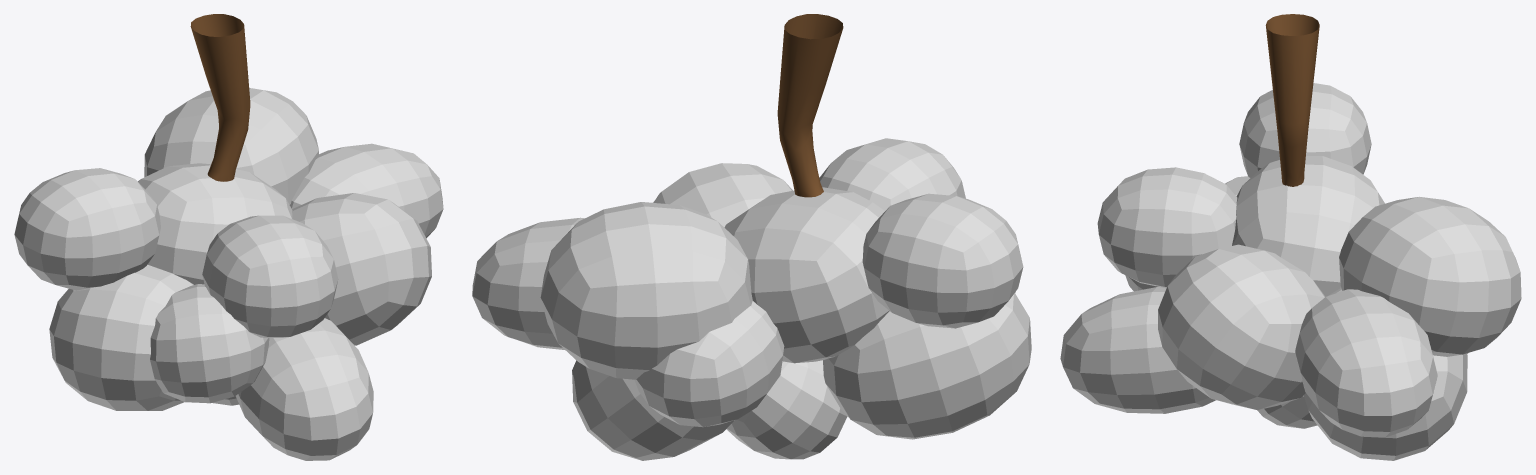
Rendered from partitree.fbx.
3 renders of one model, left to right at view 1: azimuth 30°, elevation 25°; view 2: azimuth 150°, elevation 25°; view 3: azimuth 270°, elevation 25°, orthographic. The views are drawn at different scales.
Parts seen in each view (by area): view 1: TreeFluffBooleaned.001, RegularTree.003; view 2: TreeFluffBooleaned.001, RegularTree.003; view 3: TreeFluffBooleaned.001, RegularTree.003.
Boxes of the visible parts, box(x1,y1,x2,y2) form: TreeFluffBooleaned.001: box(14, 88, 443, 460); RegularTree.003: box(190, 14, 250, 181); TreeFluffBooleaned.001: box(472, 138, 1031, 460); RegularTree.003: box(777, 14, 843, 197); TreeFluffBooleaned.001: box(1060, 83, 1521, 460); RegularTree.003: box(1265, 14, 1319, 186).
Bounding box in the file's own units: 480 × 394 × 426.
